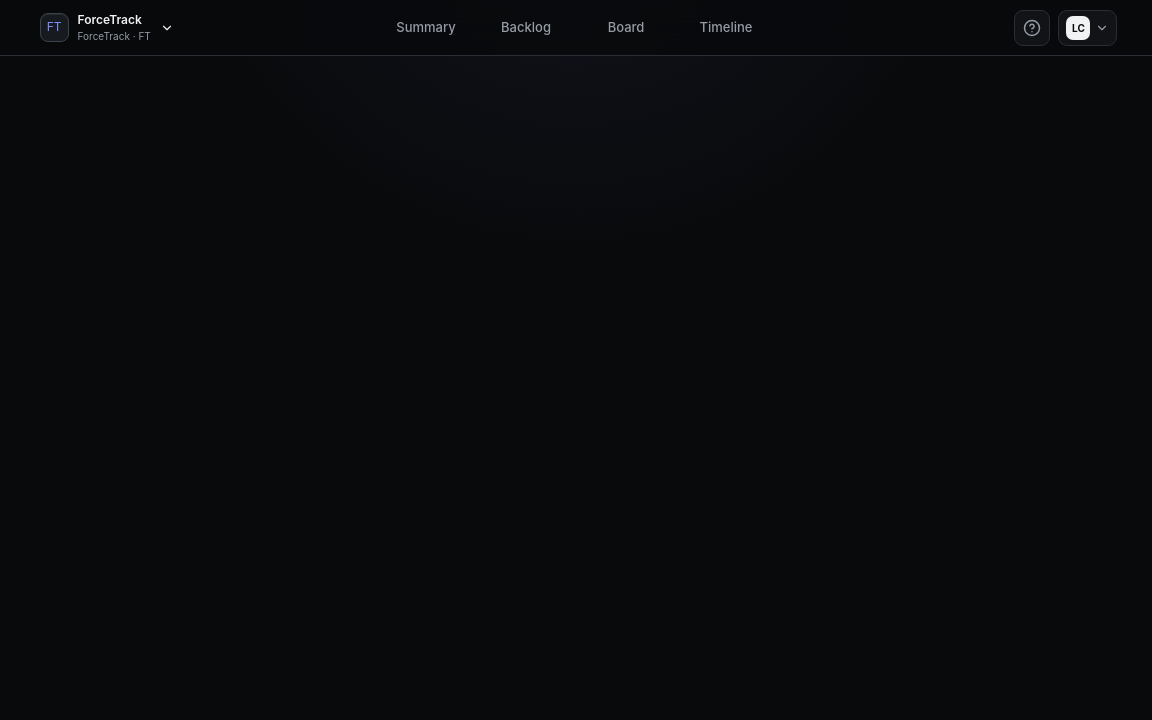
Test: App shell › shows only light and dark themes and closes the user menu with Escape
Click the button with aria-label "Open user menu": (1088, 28) [1058, 10, 1118, 46]
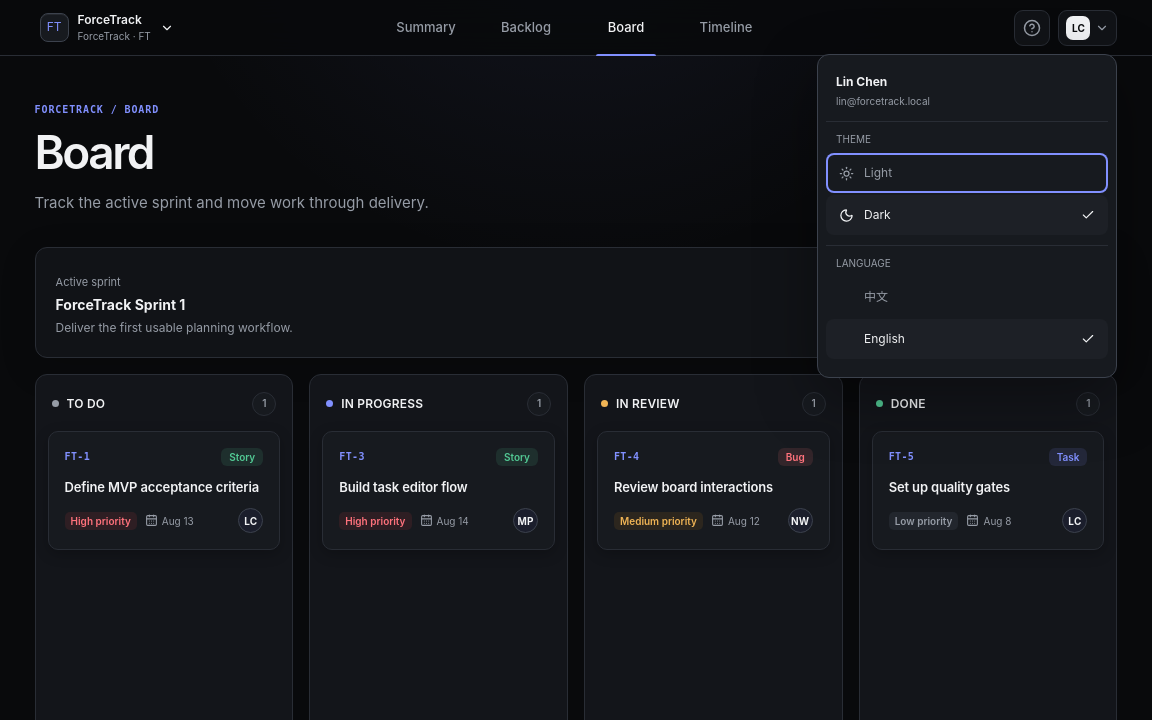
Check: the text "Lin Chen" is shown, box [836, 74, 887, 89]
Check: the text "lin@forcetrack.local" is shown, box [836, 95, 930, 107]
Check: the button "Light" is shown, box [826, 153, 1108, 193]
Press Escape
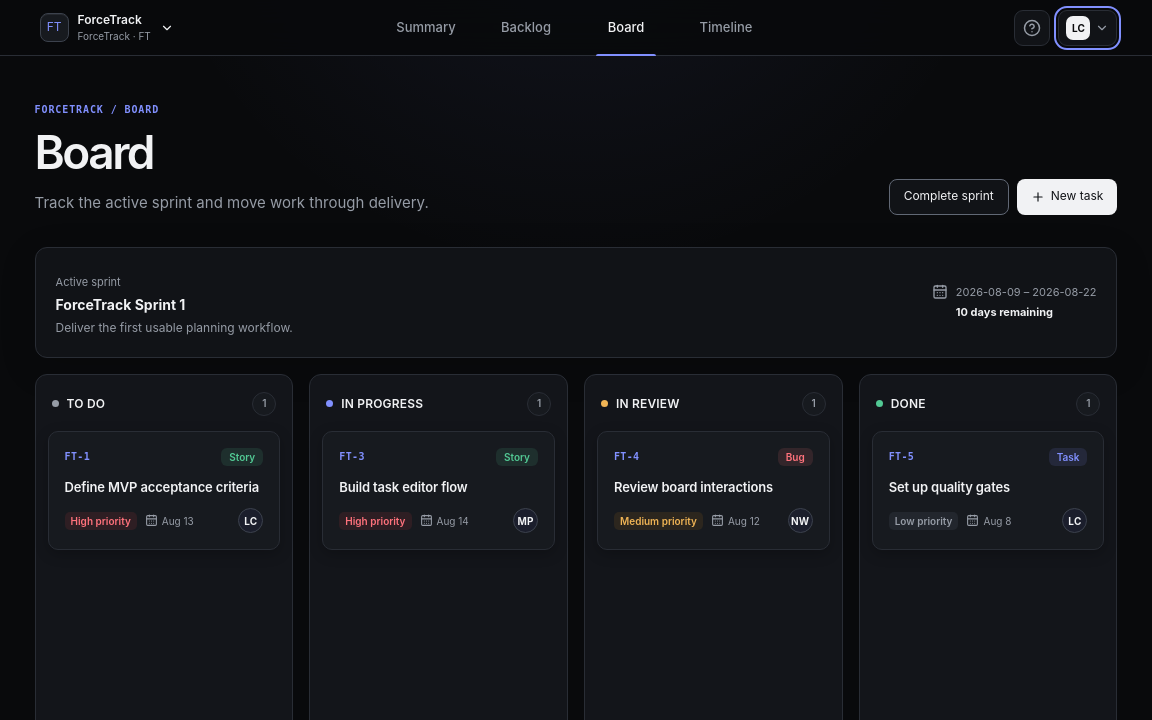
Check: the text "lin@forcetrack.local" is gone
